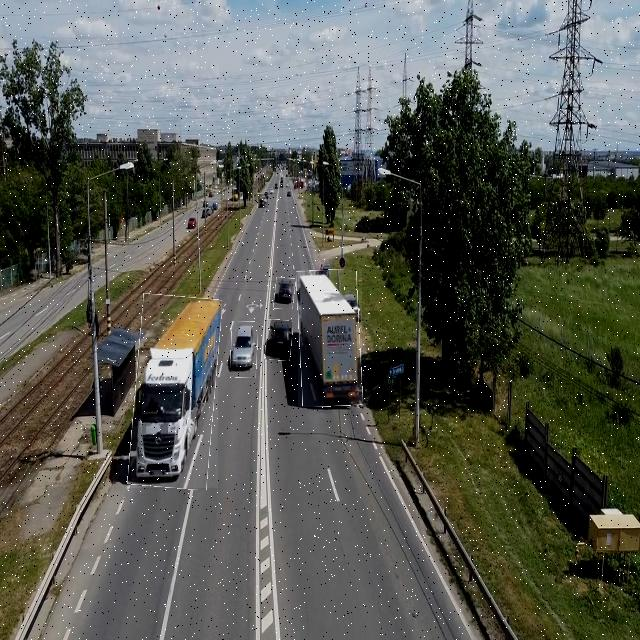Car: (231, 322, 258, 378), (265, 320, 292, 360), (274, 278, 295, 309), (257, 193, 268, 208)
Truck: (131, 294, 218, 488), (298, 270, 362, 407)
